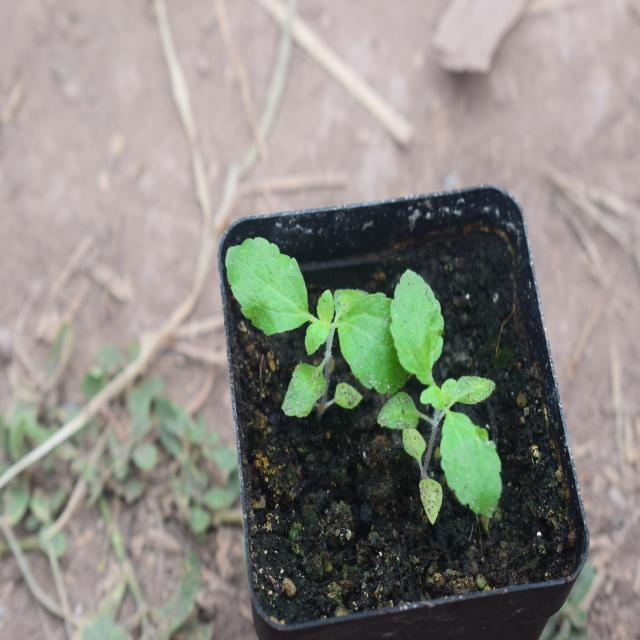billygoat_weed: (216, 219, 409, 422), (392, 272, 537, 523)
